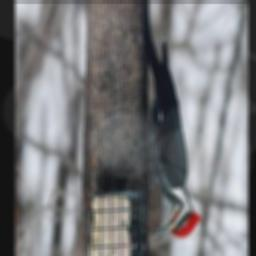Woodpecker: (125, 8, 200, 243)
